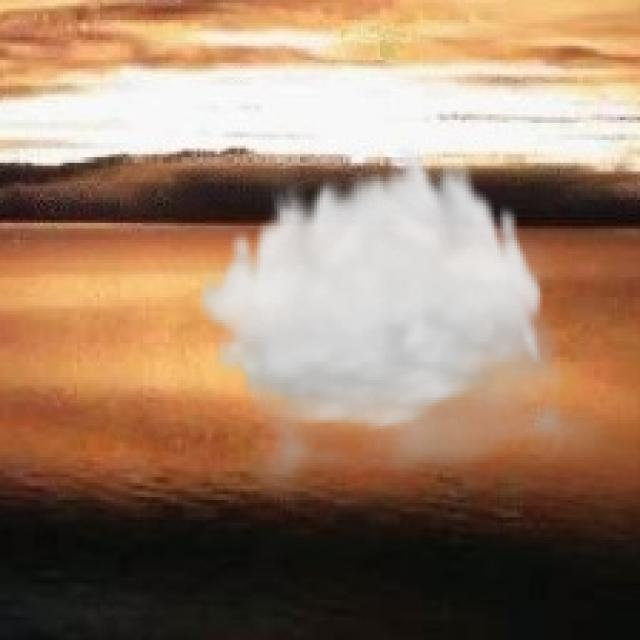Smoke: (195, 140, 620, 500)
